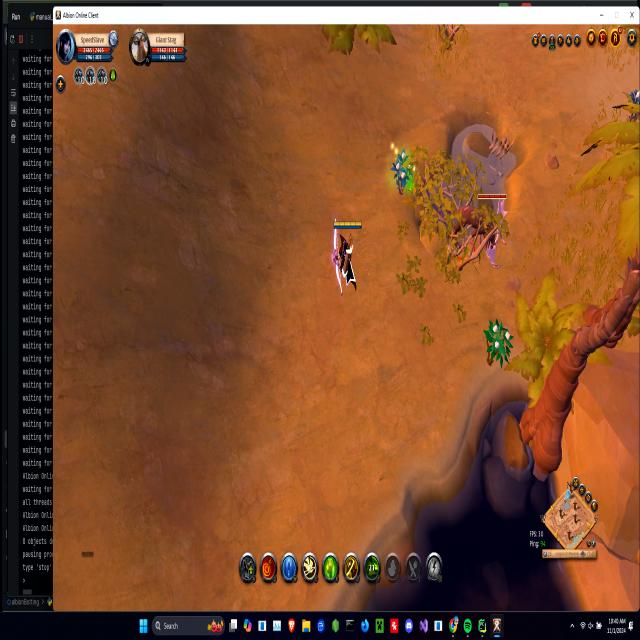hide: (485, 318, 512, 369), (392, 151, 413, 193), (627, 86, 640, 125)
ore: (445, 189, 509, 270)
red: (329, 217, 361, 294)
